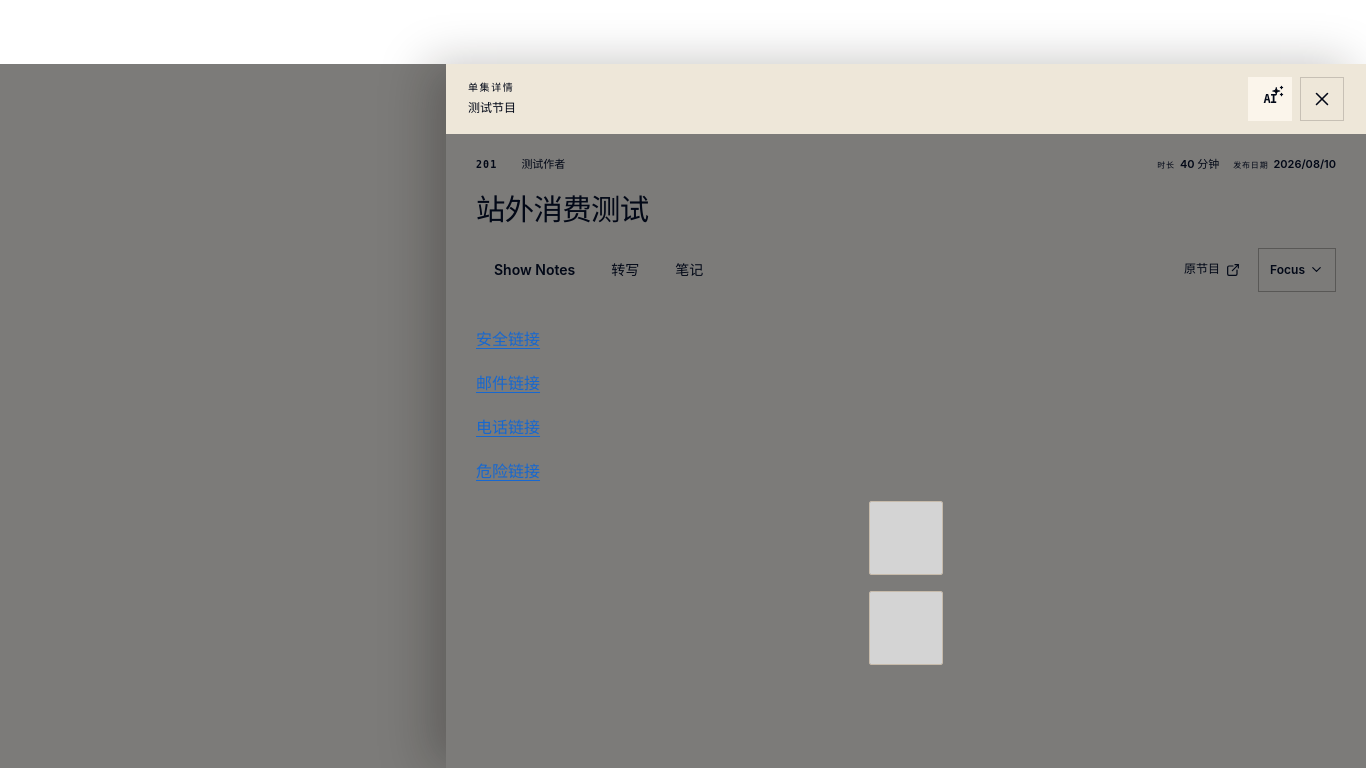
ConsumptionDetailPanel › keeps the unstarted transcript body outcome-focused
The width and height of the screenshot is (1366, 768).
Click the tab "转写": [625, 270] box [593,245,657,295]
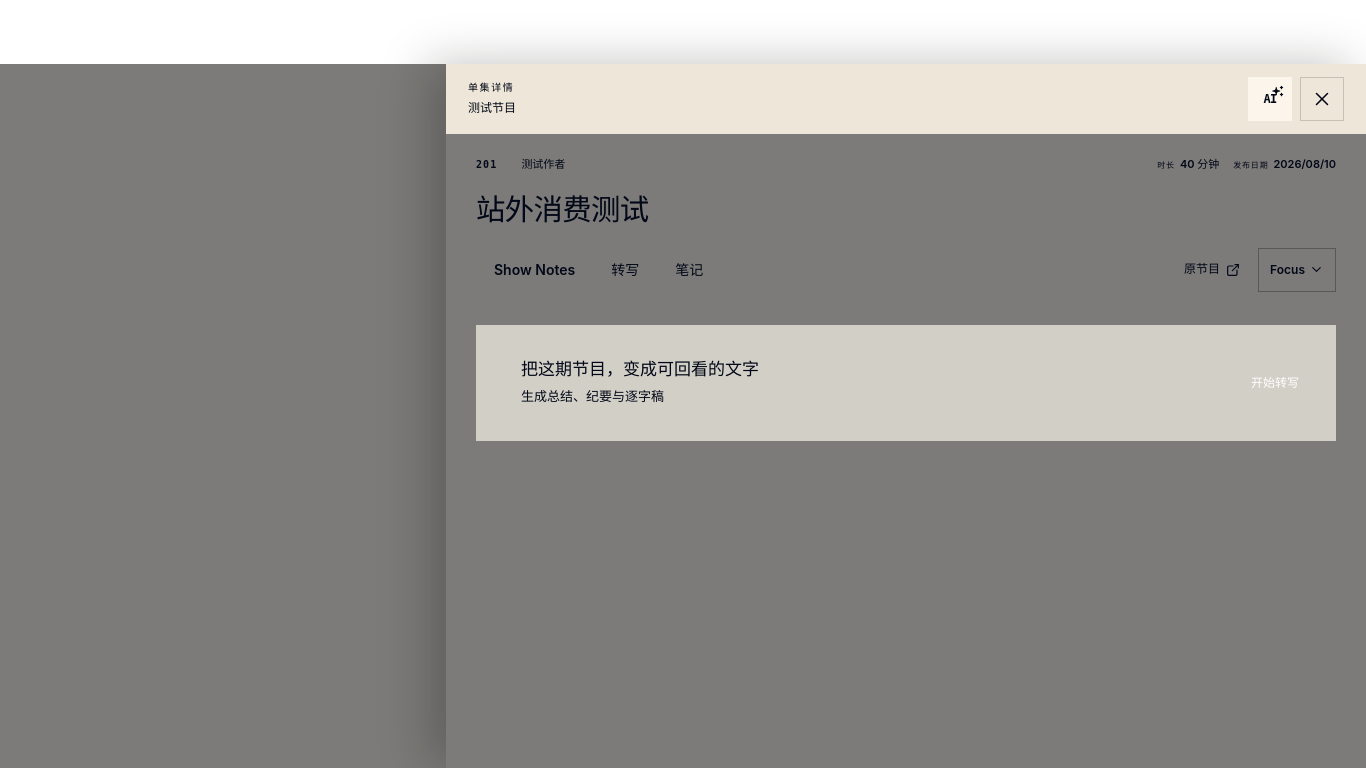
Now the text "把这期节目，变成可回看的文字" is shown, box [521,359,759,379]
Now the text "生成总结、纪要与逐字稿" is shown, box [521,388,664,404]
Now the button "开始转写" is enabled, box [1236,361,1314,405]
